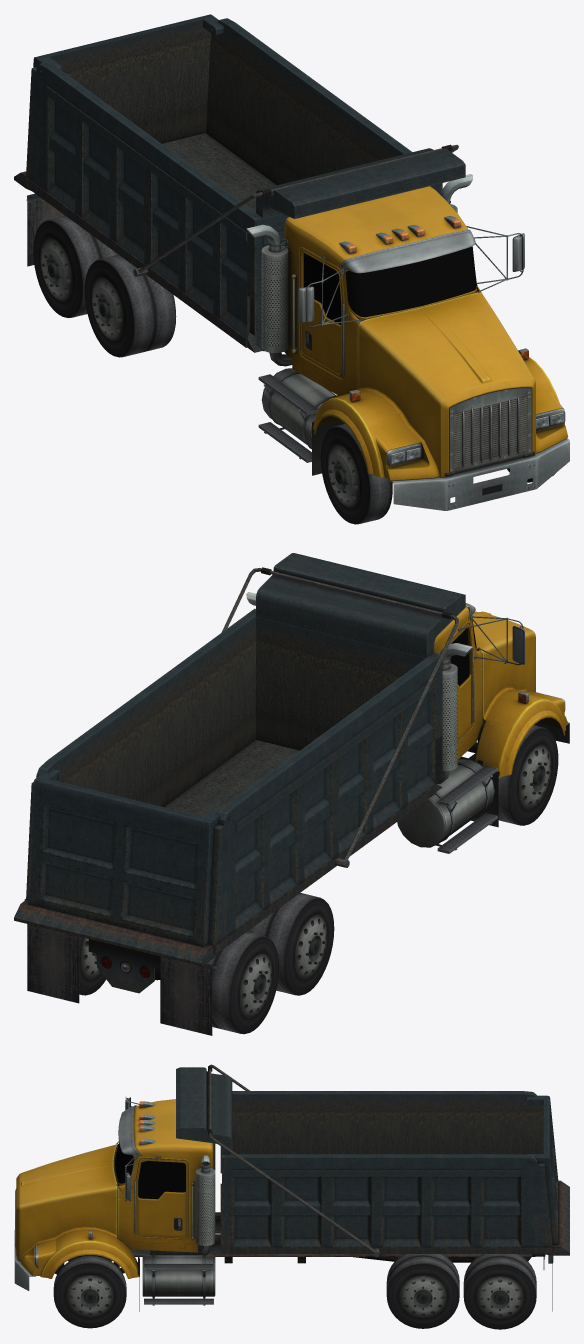
The model's file is Kenworth.obj.
3 renders of one model, top to bottom at view 1: azimuth 30°, elevation 25°; view 2: azimuth 150°, elevation 25°; view 3: azimuth 270°, elevation 25°, orthographic. The views are drawn at different scales.
Visible parts, largest first — view 1: Truck_Bed, Truck_Truck_Mesh.005, Back_Front_Wheels_Back_Front_Wheel_Mesh.002, Back_Back_Wheels_Main_Wheels_Mesh.004, Front_Wheels_Main_Wheels_Mesh.001; view 2: Truck_Bed, Truck_Truck_Mesh.005, Back_Back_Wheels_Main_Wheels_Mesh.004, Back_Front_Wheels_Back_Front_Wheel_Mesh.002, Front_Wheels_Main_Wheels_Mesh.001; view 3: Truck_Bed, Truck_Truck_Mesh.005, Back_Back_Wheels_Main_Wheels_Mesh.004, Back_Front_Wheels_Back_Front_Wheel_Mesh.002, Front_Wheels_Main_Wheels_Mesh.001.
Boxes of the visible parts, left/top/right/bottom form: Truck_Bed: left=14, top=14, right=465, bottom=352; Truck_Truck_Mesh.005: left=26, top=174, right=569, bottom=510; Back_Front_Wheels_Back_Front_Wheel_Mesh.002: left=84, top=254, right=176, bottom=357; Back_Back_Wheels_Main_Wheels_Mesh.004: left=33, top=215, right=117, bottom=318; Front_Wheels_Main_Wheels_Mesh.001: left=320, top=424, right=555, bottom=524; Truck_Bed: left=14, top=553, right=465, bottom=966; Truck_Truck_Mesh.005: left=27, top=592, right=569, bottom=1035; Back_Back_Wheels_Main_Wheels_Mesh.004: left=79, top=931, right=279, bottom=1034; Back_Front_Wheels_Back_Front_Wheel_Mesh.002: left=247, top=893, right=334, bottom=995; Front_Wheels_Main_Wheels_Mesh.001: left=498, top=725, right=558, bottom=825; Truck_Bed: left=176, top=1064, right=569, bottom=1256; Truck_Truck_Mesh.005: left=14, top=1097, right=553, bottom=1311; Back_Back_Wheels_Main_Wheels_Mesh.004: left=463, top=1254, right=536, bottom=1329; Back_Front_Wheels_Back_Front_Wheel_Mesh.002: left=386, top=1254, right=459, bottom=1328; Front_Wheels_Main_Wheels_Mesh.001: left=53, top=1255, right=126, bottom=1328.
Bounding box in the file's own units: 2.63 × 3.02 × 7.74.
